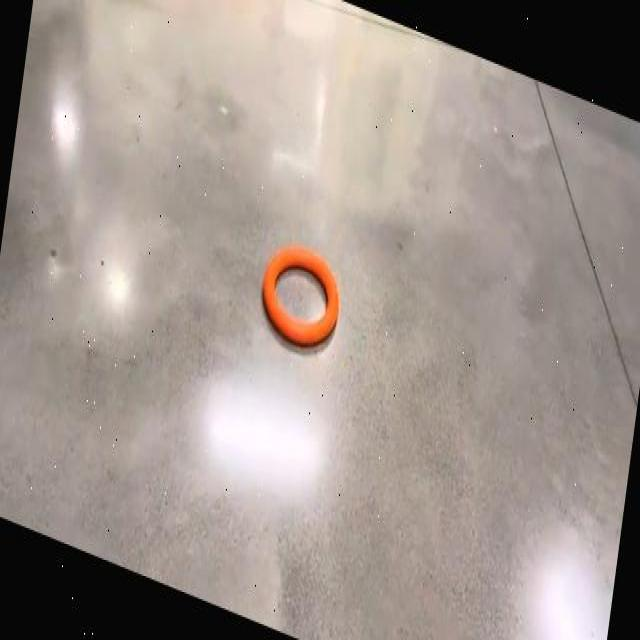note: (263, 246, 337, 345)
